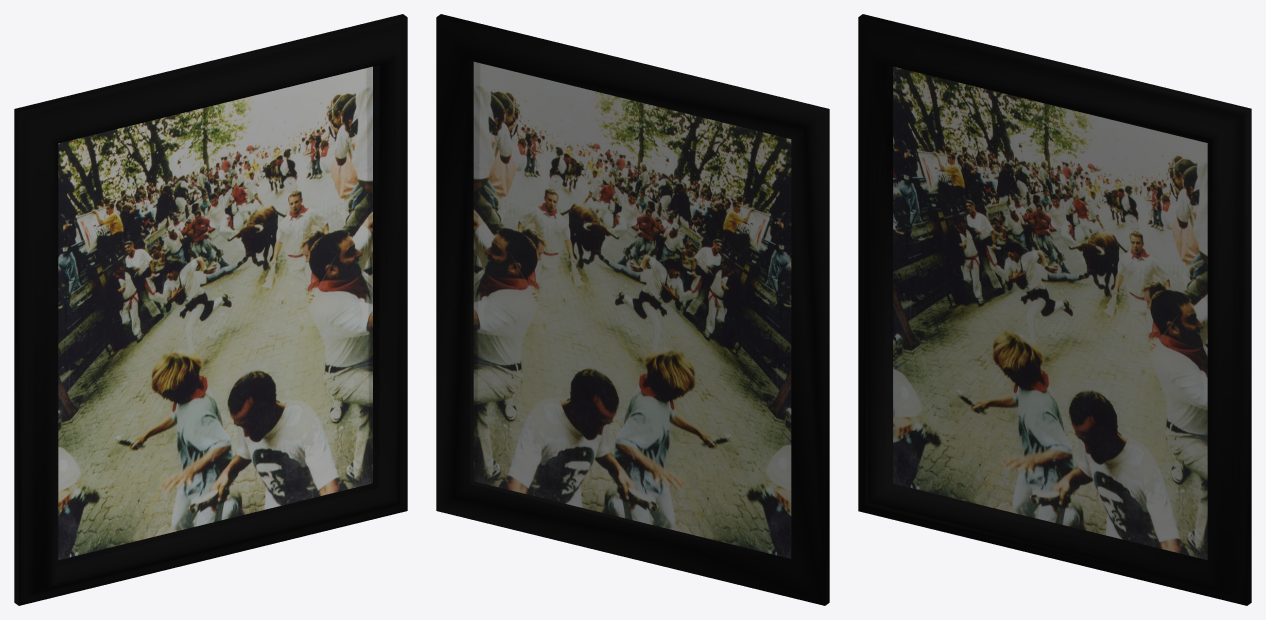
Rendered from frame.obj.
3 views of the same model, side by side, from view 1: azimuth 30°, elevation 25°; view 2: azimuth 150°, elevation 25°; view 3: azimuth 330°, elevation 25° (orthographic).
Parts seen in each view (by area): view 1: Picture_Plane.001, Frame_Cube.003; view 2: Picture_Plane.001, Frame_Cube.003; view 3: Picture_Plane.001, Frame_Cube.003.
Boxes of the visible parts, box(x1,y1,x2,y2) form: Picture_Plane.001: box(58, 66, 372, 559); Frame_Cube.003: box(14, 14, 407, 605); Picture_Plane.001: box(473, 61, 791, 558); Frame_Cube.003: box(436, 14, 829, 605); Picture_Plane.001: box(893, 66, 1207, 559); Frame_Cube.003: box(858, 14, 1251, 605).
Size of the model in its own units: 9.2 by 11.17 by 0.6378.
Materials: 2 (1 with a texture image).
